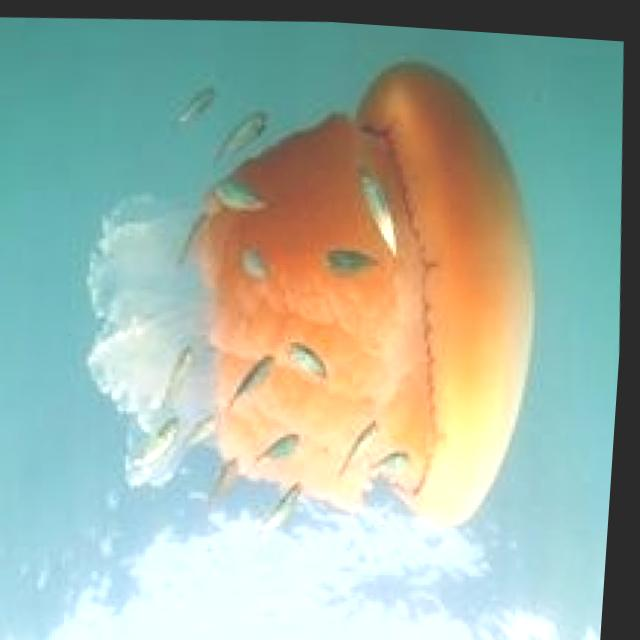Box-jellyfish: (62, 31, 562, 553)
